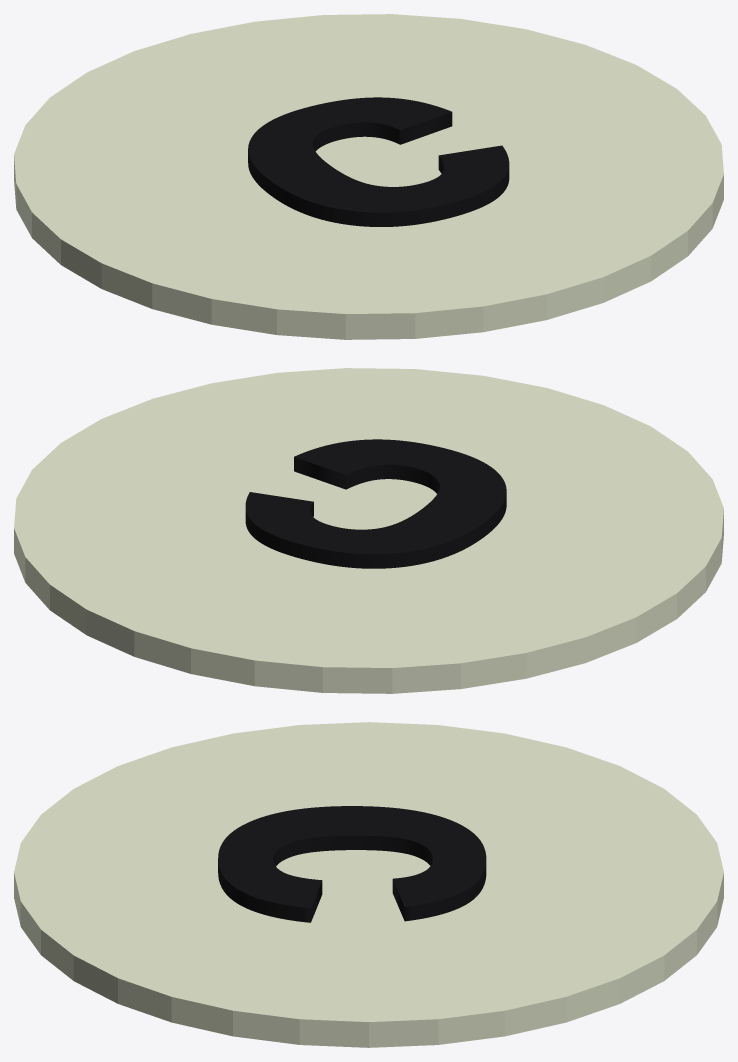
3 views of the same model, one above another, from view 1: azimuth 30°, elevation 25°; view 2: azimuth 150°, elevation 25°; view 3: azimuth 270°, elevation 25° (orthographic).
Parts seen in each view (by area): view 1: 柱体, 文本; view 2: 柱体, 文本; view 3: 柱体, 文本.
Part boxes in pixels (left/top/right/bottom): 柱体: left=14, top=14, right=723, bottom=339; 文本: left=248, top=97, right=509, bottom=226; 柱体: left=14, top=368, right=723, bottom=693; 文本: left=245, top=439, right=506, bottom=568; 柱体: left=14, top=722, right=723, bottom=1047; 文本: left=218, top=806, right=486, bottom=922.
Bounding box in the file's own units: 200 × 12.5 × 200.
